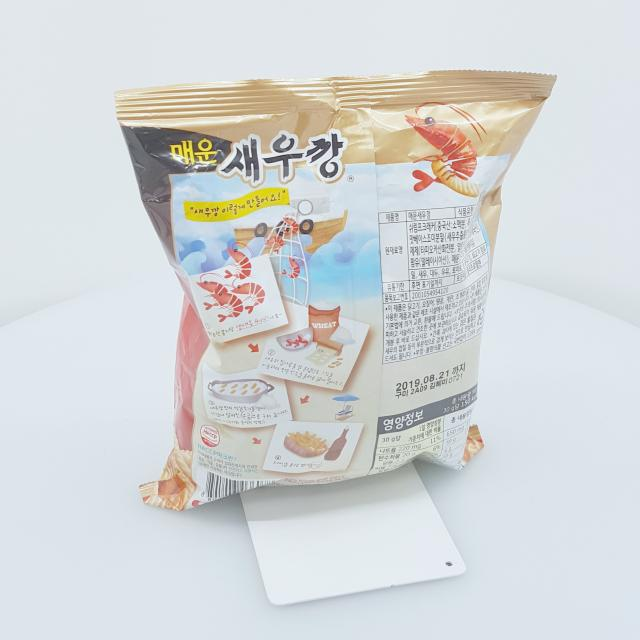-90G: (114, 70, 559, 512)
